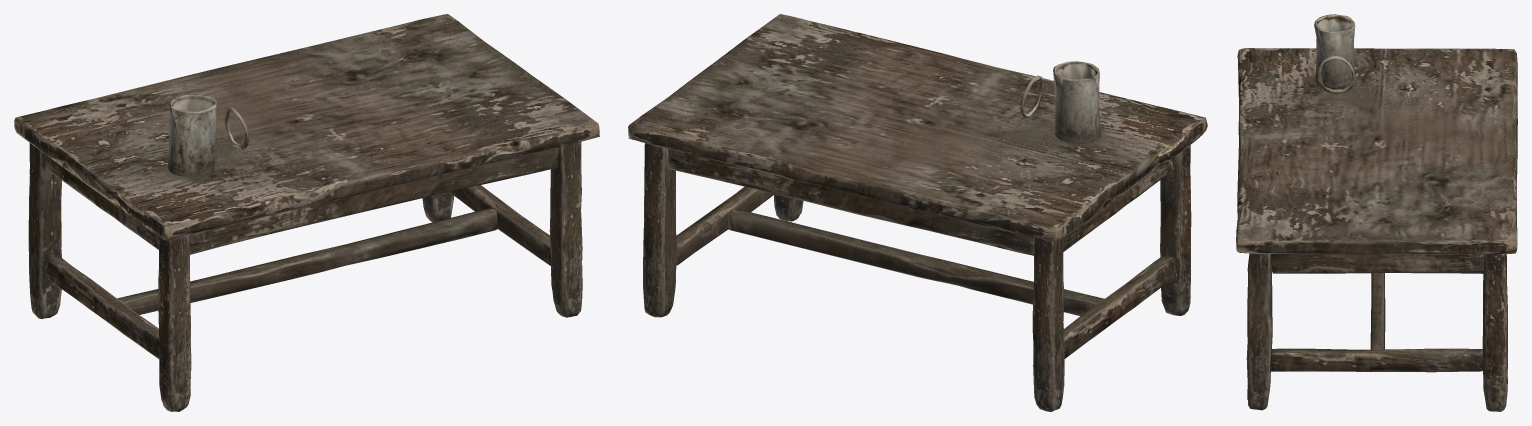
File: coffee_table.glb
The picture shows the model from 3 angles, left to right: view 1: azimuth 30°, elevation 25°; view 2: azimuth 150°, elevation 25°; view 3: azimuth 270°, elevation 25°; orthographic projection. The views are drawn at different scales.
Bounding box in the file's own units: 1 × 0.5828 × 0.6224.
1 material, 1 textured.
